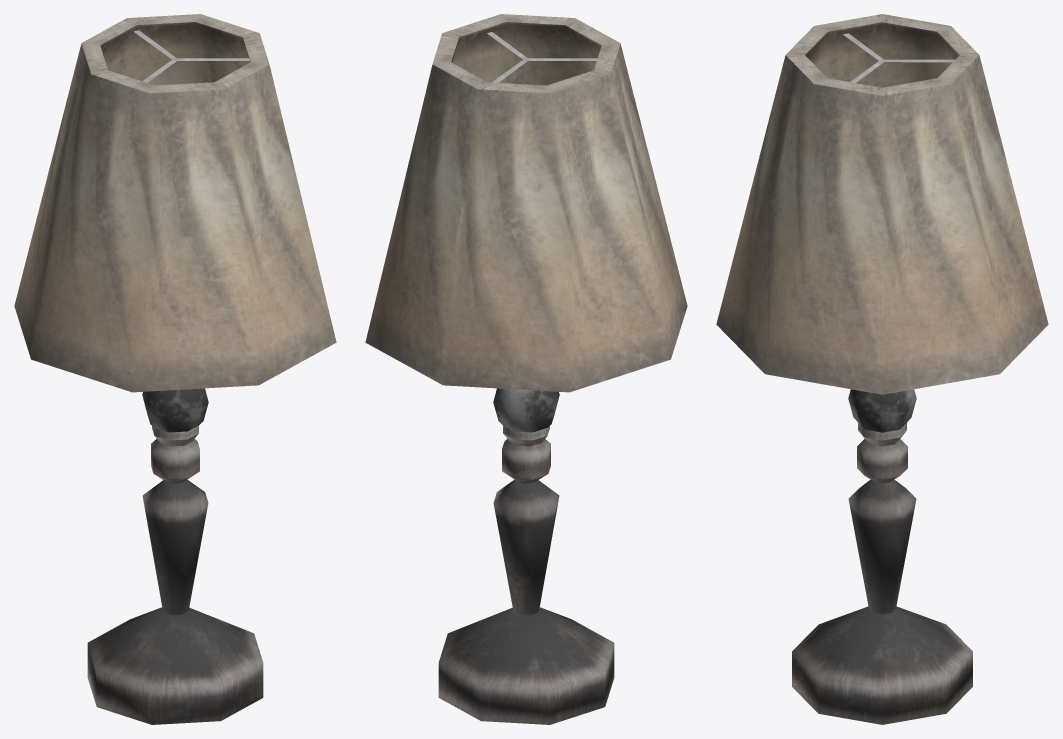
Rendered from lamp_yukaoki.fbx.
The picture shows the model from 3 angles, left to right: view 1: azimuth 30°, elevation 25°; view 2: azimuth 150°, elevation 25°; view 3: azimuth 270°, elevation 25°; orthographic projection.
Visible parts, largest first — view 1: lamp_yukaoki; view 2: lamp_yukaoki; view 3: lamp_yukaoki.
Boxes of the visible parts, left/top/right/bottom form: lamp_yukaoki: left=14, top=14, right=336, bottom=724; lamp_yukaoki: left=365, top=14, right=687, bottom=724; lamp_yukaoki: left=716, top=14, right=1048, bottom=724.
Size of the model in its own units: 0.257 by 0.539 by 0.257.
